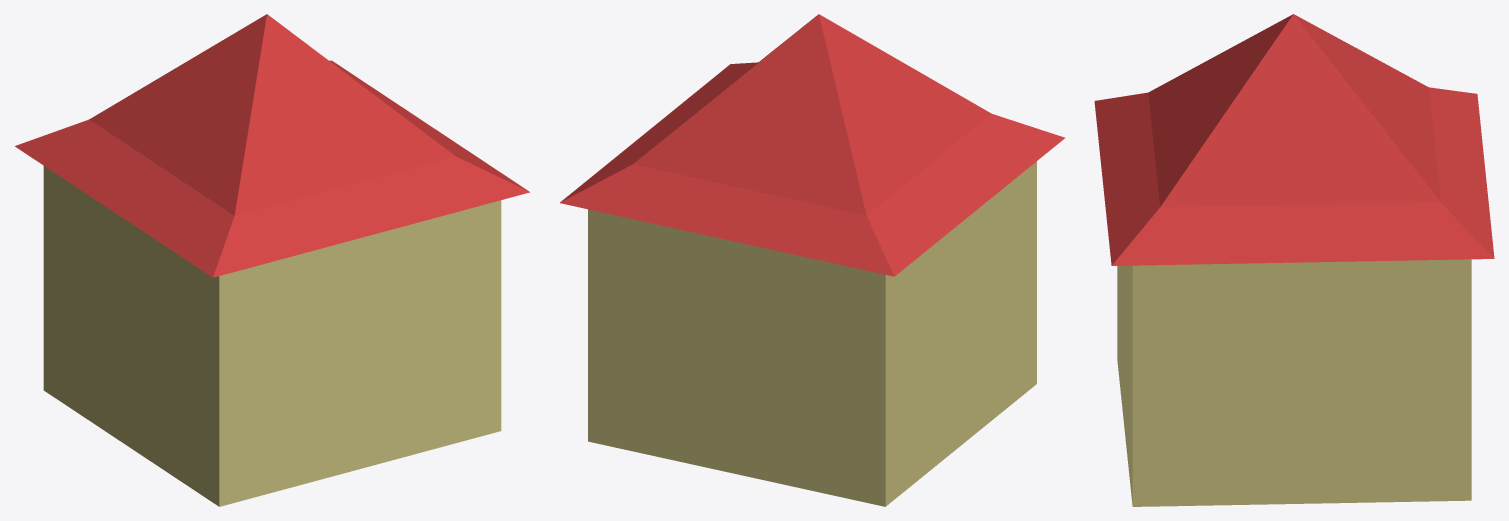
3 views of the same model, side by side, from view 1: azimuth 30°, elevation 25°; view 2: azimuth 150°, elevation 25°; view 3: azimuth 270°, elevation 25° (orthographic). The views are drawn at different scales.
Bounding box in the file's own units: 9.25 × 9.08 × 10.36.
